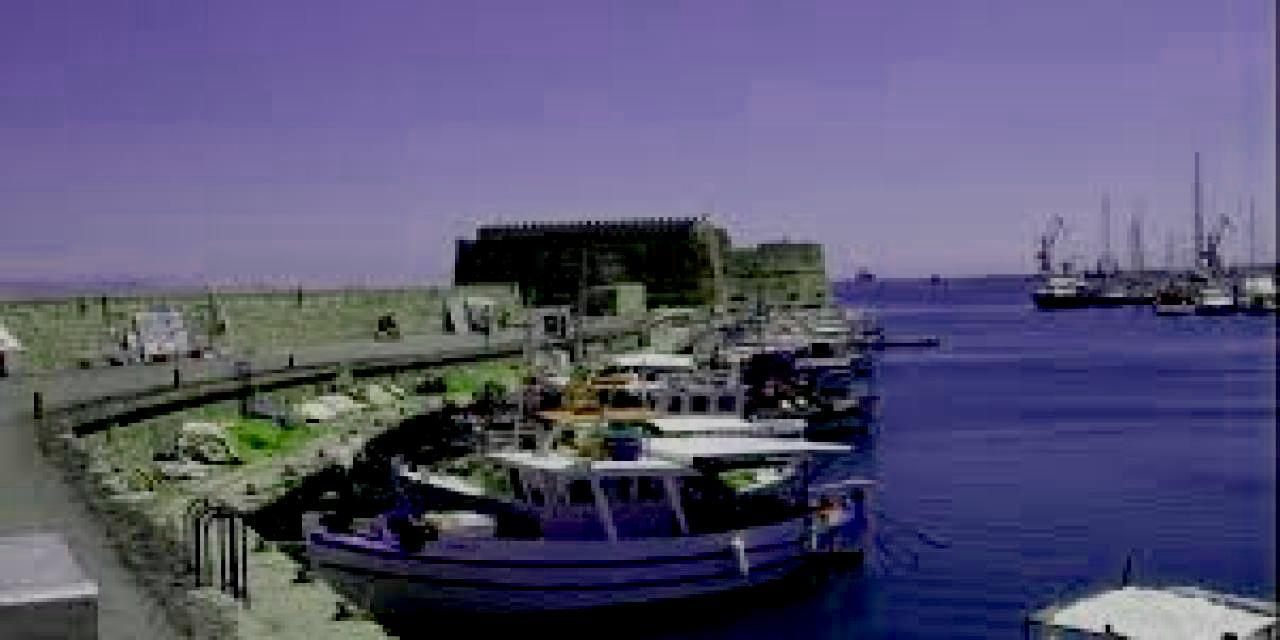Kules: (452, 223, 833, 322)
